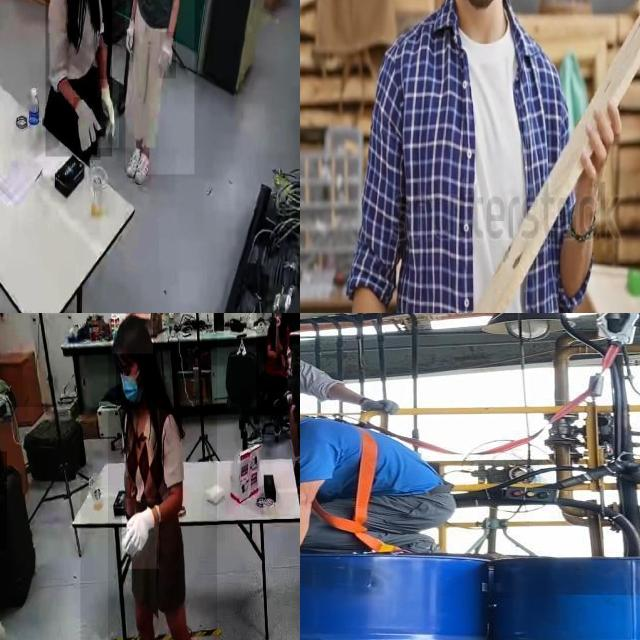Harness: (300, 413, 403, 559)
face_mask: (116, 356, 151, 410)
face_nomask: (273, 313, 282, 319)
hand_glove: (122, 498, 160, 570), (73, 97, 101, 161), (98, 79, 120, 149), (160, 32, 177, 79), (126, 13, 138, 63)
hand_noglove: (278, 352, 286, 370), (273, 313, 281, 327)
head_nohelmet: (112, 314, 154, 354)
person: (359, 0, 597, 313), (108, 318, 217, 640), (0, 407, 80, 640), (125, 0, 194, 175), (45, 0, 112, 157), (256, 313, 287, 416)
shoes: (122, 145, 142, 181), (133, 147, 149, 189)
